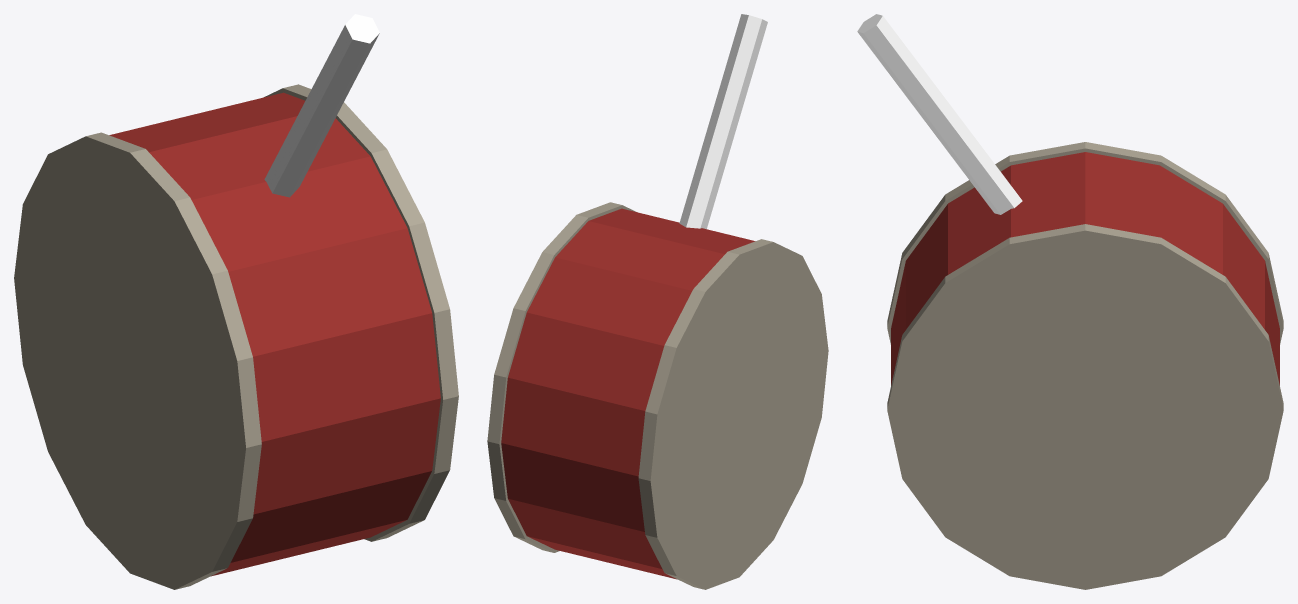
Rendered from davul.glb.
3 views of the same model, side by side, from view 1: azimuth 30°, elevation 25°; view 2: azimuth 150°, elevation 25°; view 3: azimuth 270°, elevation 25° (orthographic). The views are drawn at different scales.
Parts seen in each view (by area): view 1: Cone; view 2: Cone; view 3: Cone.
Part boxes in pixels (bbox=[...]): Cone: bbox=[14, 14, 458, 589]; Cone: bbox=[487, 14, 828, 589]; Cone: bbox=[857, 14, 1283, 589].
Bounding box in the file's own units: 0.054 × 0.1504 × 0.1097.
